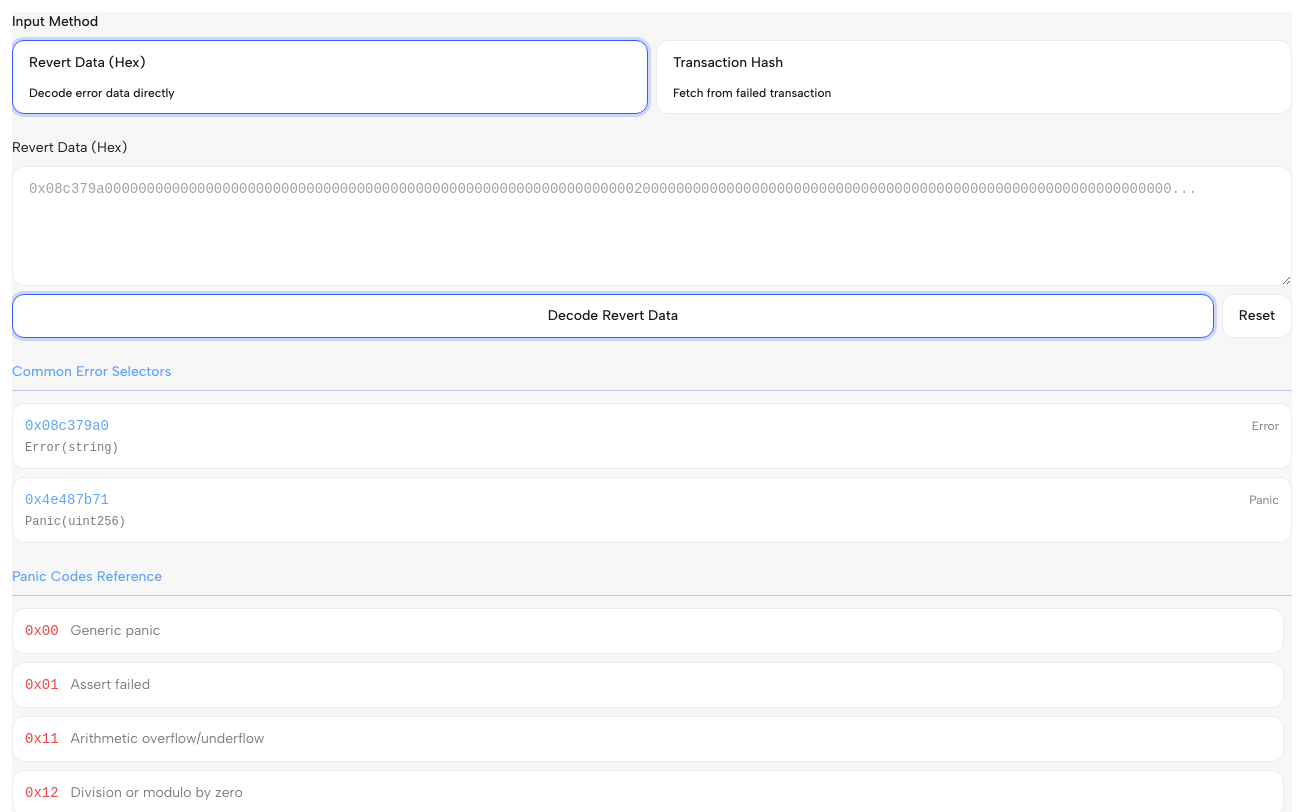
Test: RevertReasonDecoderTool › switches to transaction hash mode
Click the text "Transaction Hash": (728, 63) [673,53,783,73]
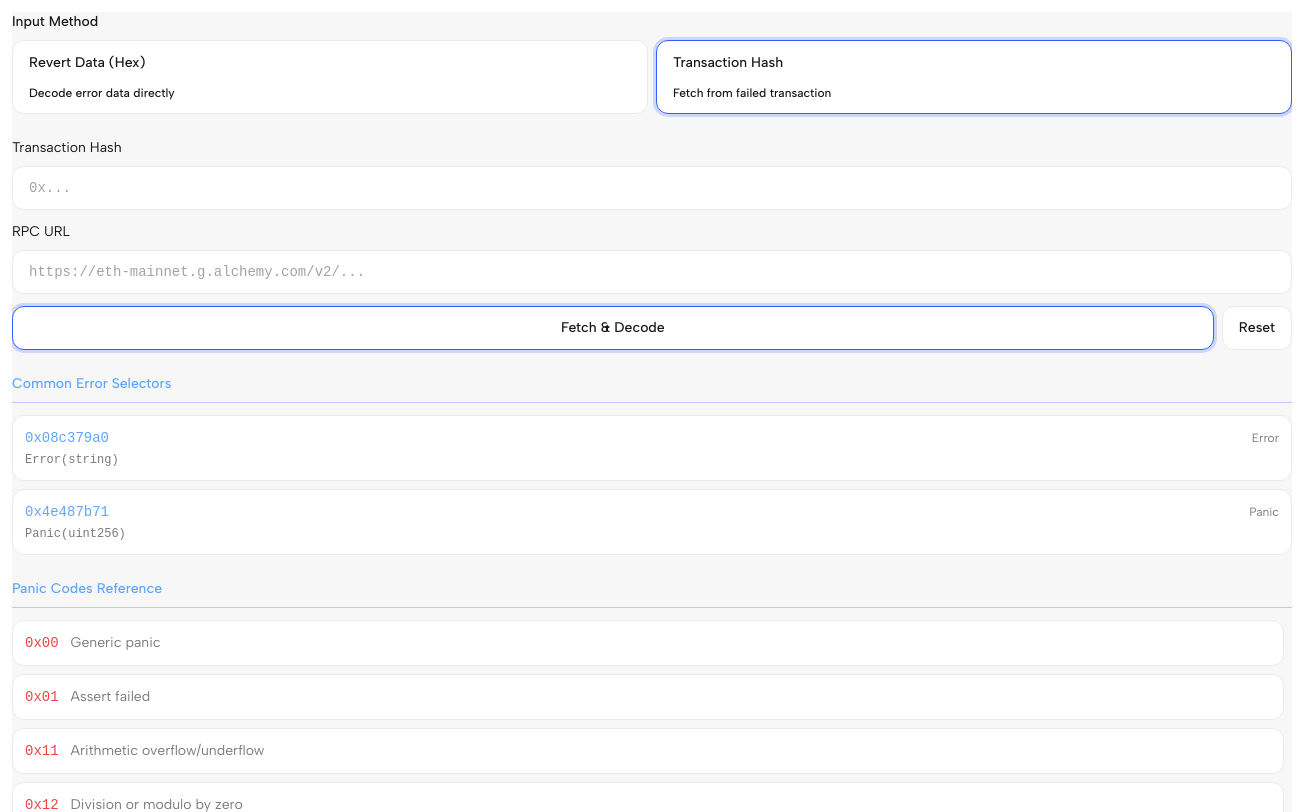
Expected: the field with placeholder "0x..." is shown, [12,166,1292,210]
Expected: the field with placeholder "https://eth-mainnet.g.alchemy.com/v2/..." is shown, [12,250,1292,294]
